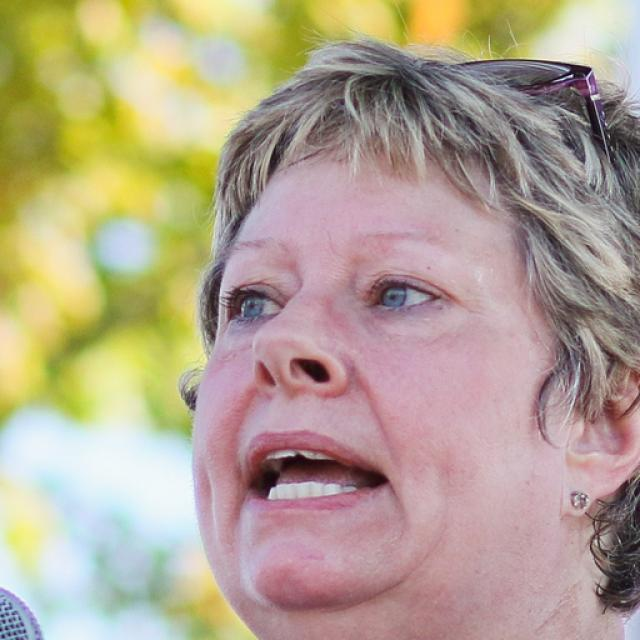fear: (188, 138, 564, 622)
